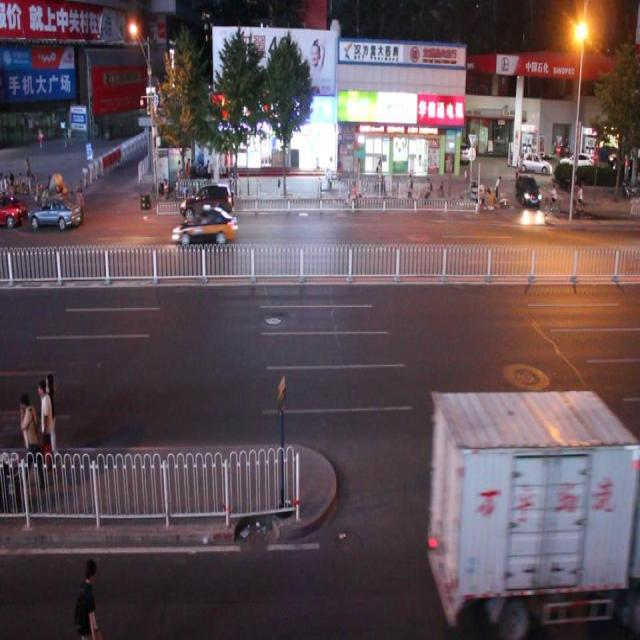bus: (433, 390, 640, 640)
car: (172, 205, 237, 248), (181, 178, 234, 226), (27, 193, 82, 231)
